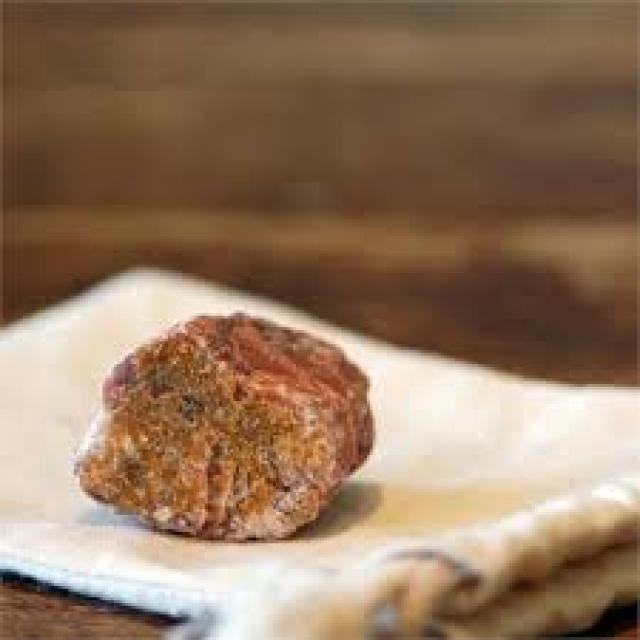Metamorphic: (54, 296, 393, 540)
